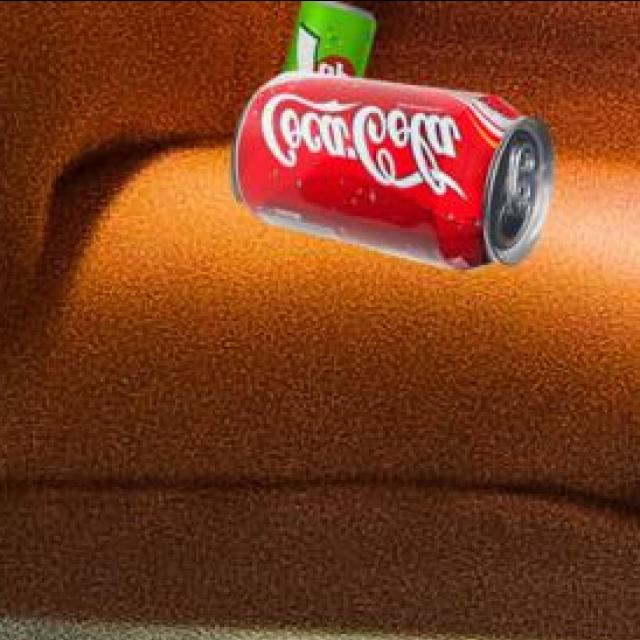logam: (235, 74, 557, 272), (286, 0, 380, 81)
